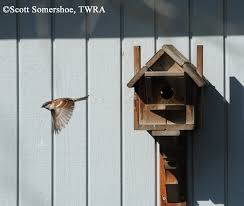hsparrow: (35, 93, 95, 136)
